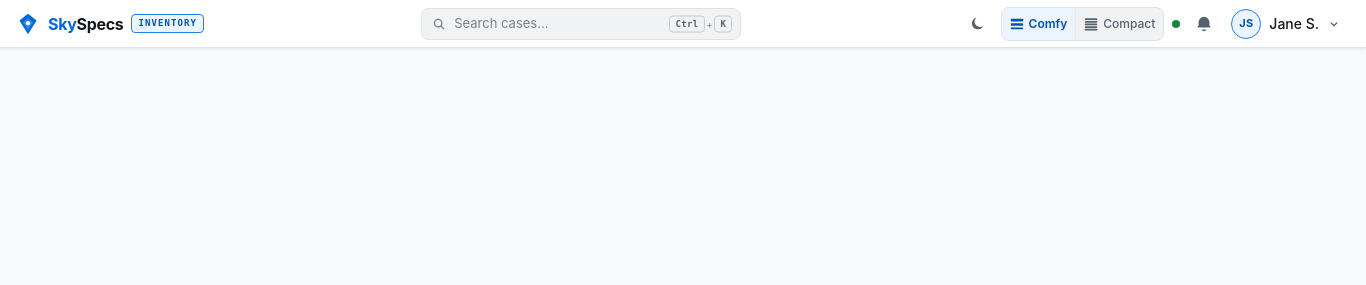
InventoryNavbar — dropdown open/close › shows the user's email in the dropdown header
This screenshot has width=1366, height=285.
Click the button with aria-label "user menu": (1288, 24) [1226,6,1350,42]
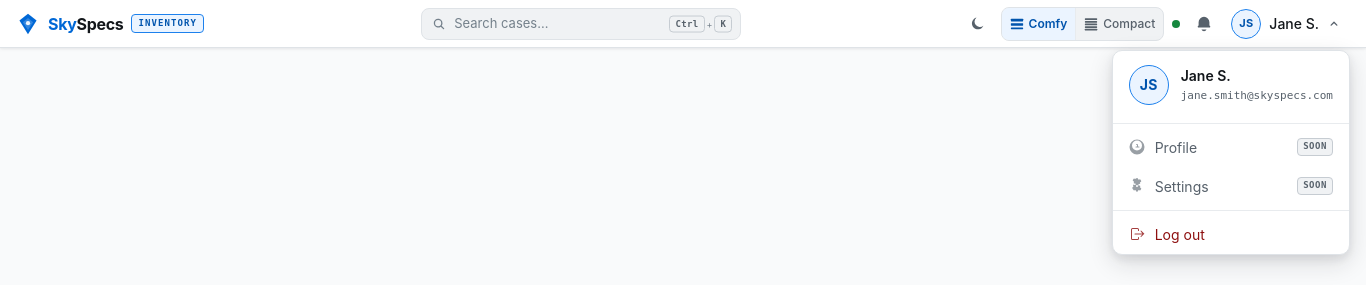
Result: the text "jane.smith@skyspecs.com" is shown at [1181,88,1333,104]
